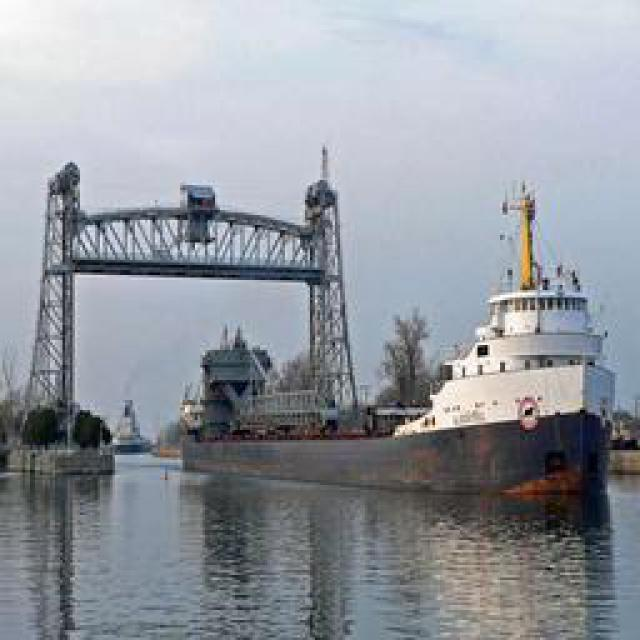Ship: (398, 163, 616, 508)
